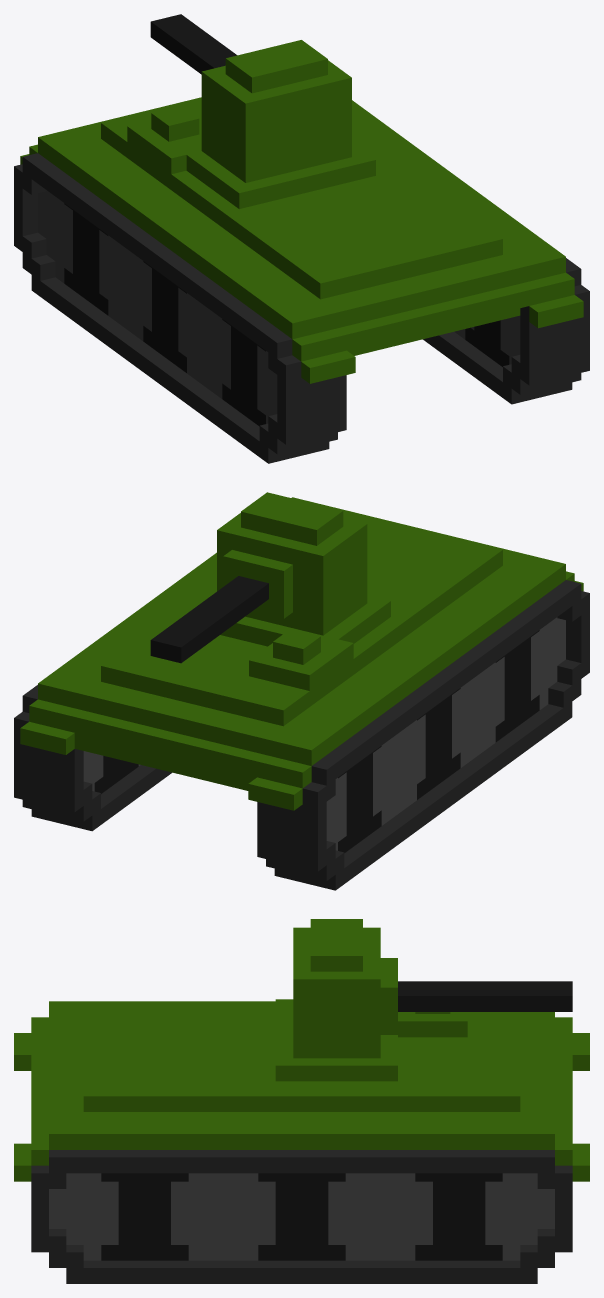
File: GENERIC-TANK.fbx
3 renders of one model, top to bottom at view 1: azimuth 30°, elevation 25°; view 2: azimuth 150°, elevation 25°; view 3: azimuth 270°, elevation 25°, orthographic.
Parts seen in each view (by area): view 1: node_0b129d21_ebcb_4ff4_b570_8ba1f6cbd3ea_mesh0; view 2: node_0b129d21_ebcb_4ff4_b570_8ba1f6cbd3ea_mesh0; view 3: node_0b129d21_ebcb_4ff4_b570_8ba1f6cbd3ea_mesh0.
Boxes of the visible parts, x1,y1,x2,y2 form: node_0b129d21_ebcb_4ff4_b570_8ba1f6cbd3ea_mesh0: (14,14,589,463); node_0b129d21_ebcb_4ff4_b570_8ba1f6cbd3ea_mesh0: (14,492,589,890); node_0b129d21_ebcb_4ff4_b570_8ba1f6cbd3ea_mesh0: (14,919,589,1283).
Size of the model in its own units: 2000 by 1700 by 3300.
Materials: 1 (1 with a texture image).
